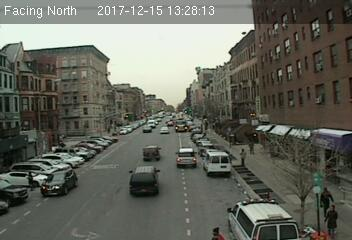car: (42, 167, 79, 196), (129, 166, 159, 195), (176, 147, 198, 167), (142, 145, 162, 162), (142, 125, 153, 134), (160, 127, 169, 134)
pedestrian: (323, 204, 342, 238), (319, 186, 333, 216), (239, 148, 247, 166)
police: (227, 199, 302, 240), (203, 152, 232, 177)
